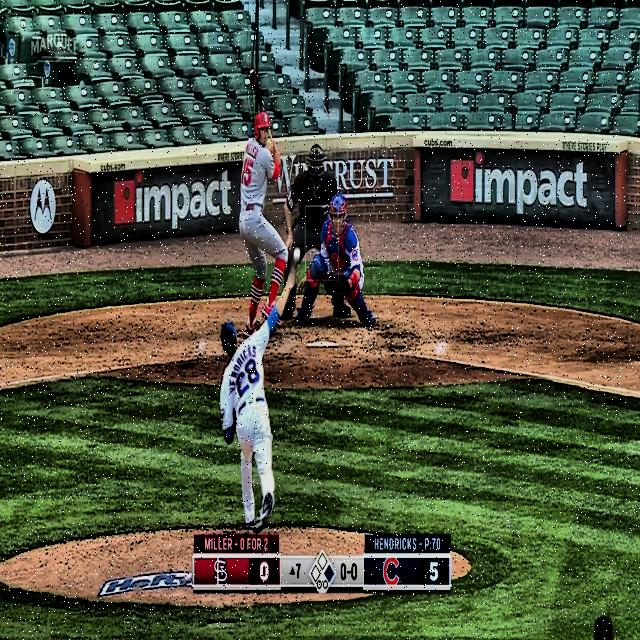baseball: (293, 246, 301, 262)
